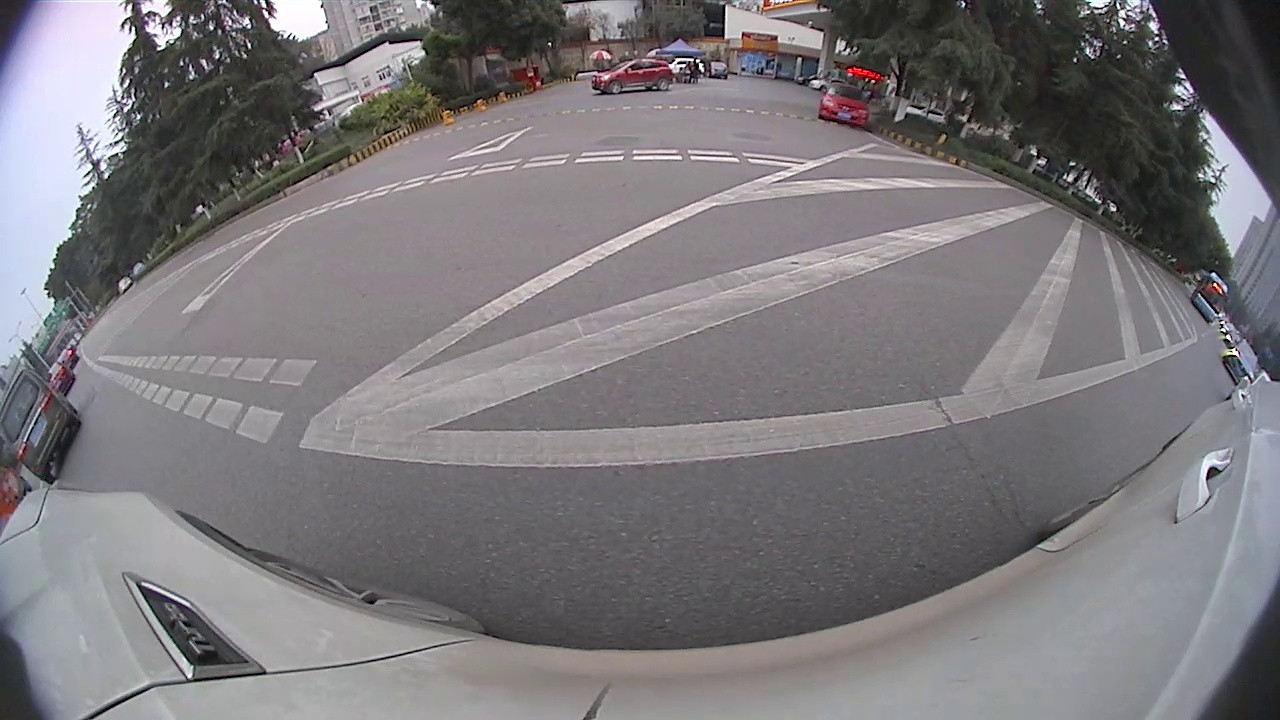car: (79, 116, 453, 363), (761, 87, 1013, 248), (644, 61, 809, 141), (1173, 370, 1244, 465), (3, 315, 61, 388), (1067, 223, 1126, 288), (1138, 296, 1184, 350)
front: (202, 277, 285, 366), (965, 214, 1000, 249)
rear: (831, 155, 884, 210), (106, 321, 145, 366), (684, 101, 724, 139)
